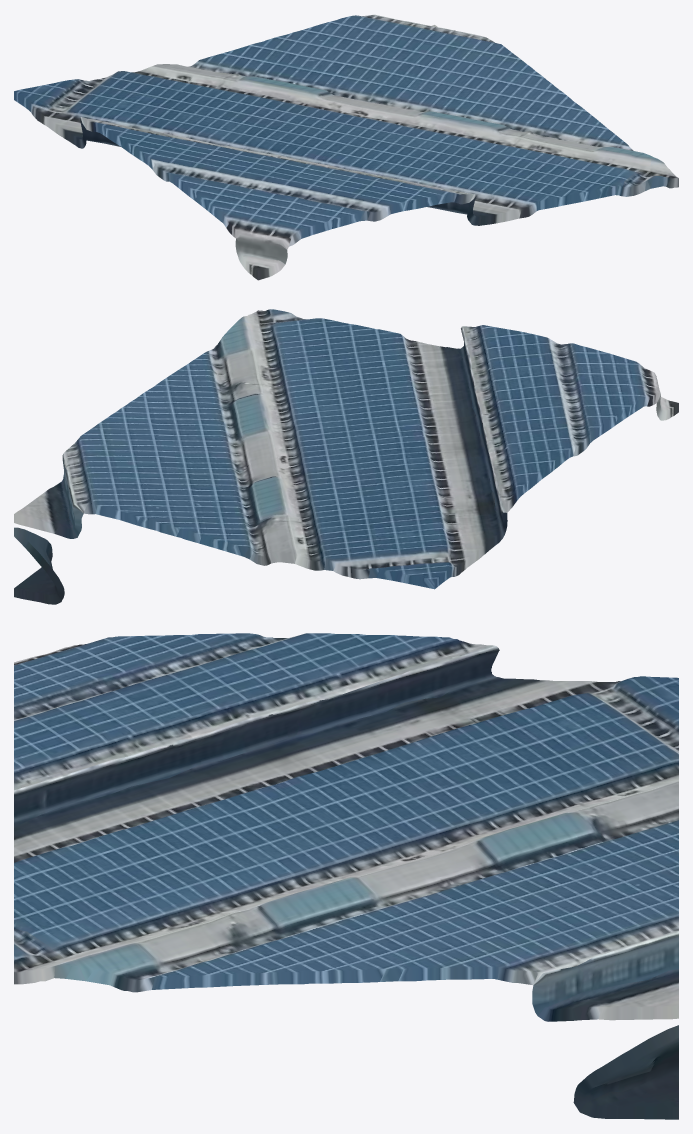
Rendered from z20-167777-405199-h0-yup-uvflip-v3-world.glb.
The picture shows the model from 3 angles, top to bottom: view 1: azimuth 30°, elevation 25°; view 2: azimuth 150°, elevation 25°; view 3: azimuth 270°, elevation 25°; orthographic projection. The views are drawn at different scales.
Size of the model in its own units: 30.16 by 10.44 by 30.32.
1 material, 1 textured.
